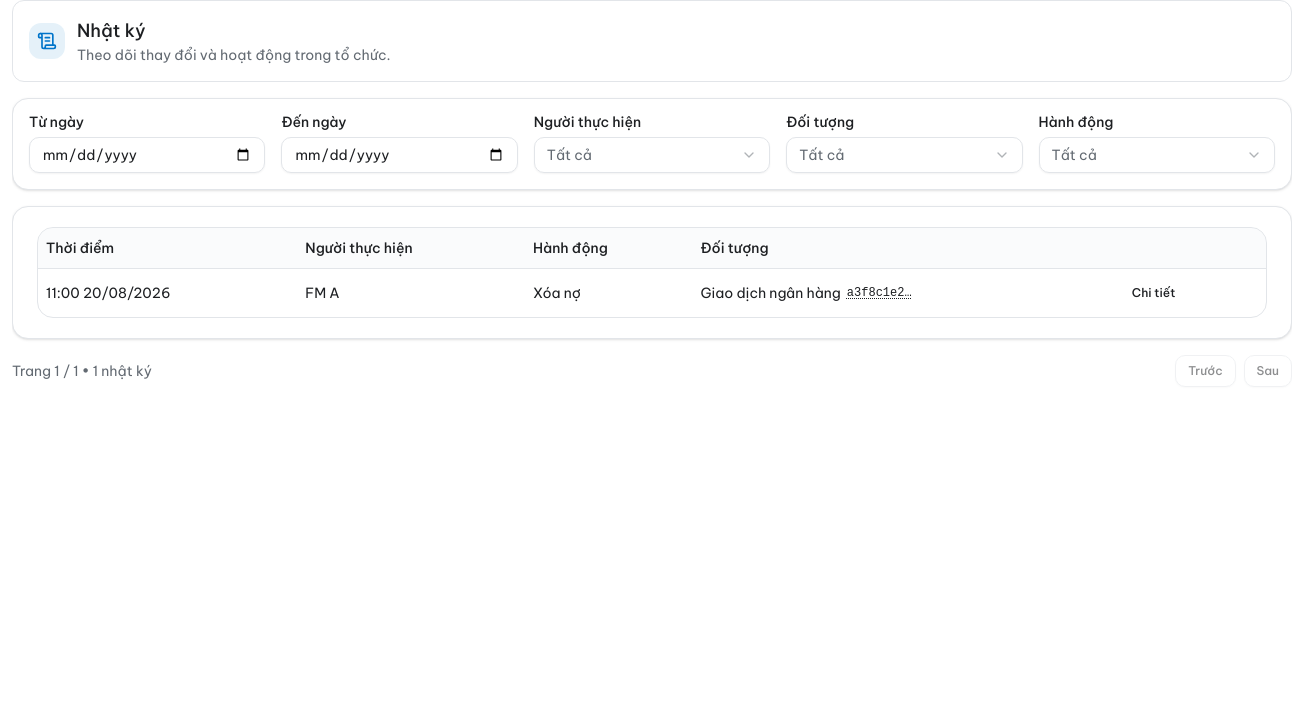
Test case: AuditLogTab › uses Vietnamese labels for bank transaction audit fields
Click the button "Chi tiết" at (1154, 292), box 1120,276 -> 1187,308
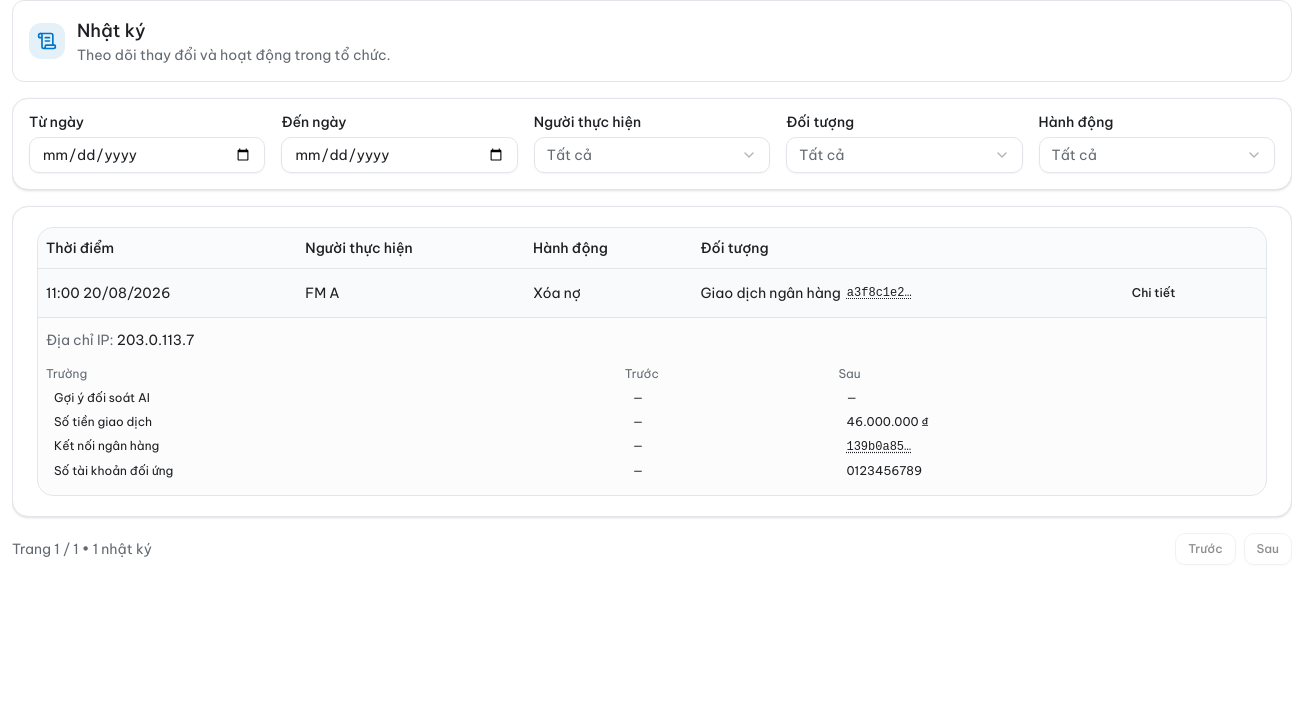
Check: the text "Số tiền giao dịch" is shown, box 46,410 -> 625,434
Check: the text "Kết nối ngân hàng" is shown, box 46,434 -> 625,458
Check: the text "Số tài khoản đối ứng" is shown, box 46,458 -> 625,482
